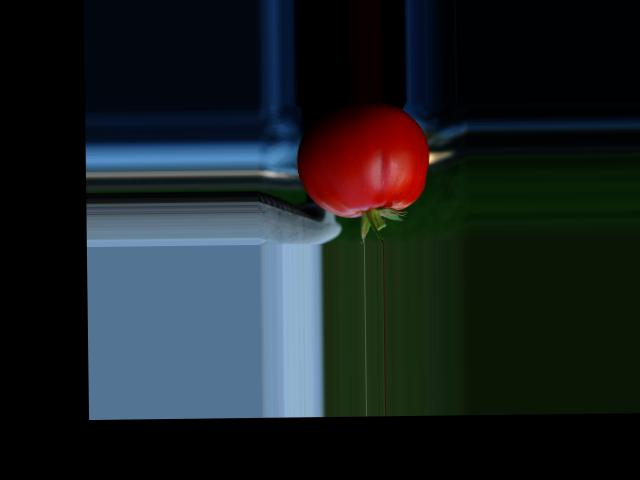tomato: (296, 101, 430, 218)
